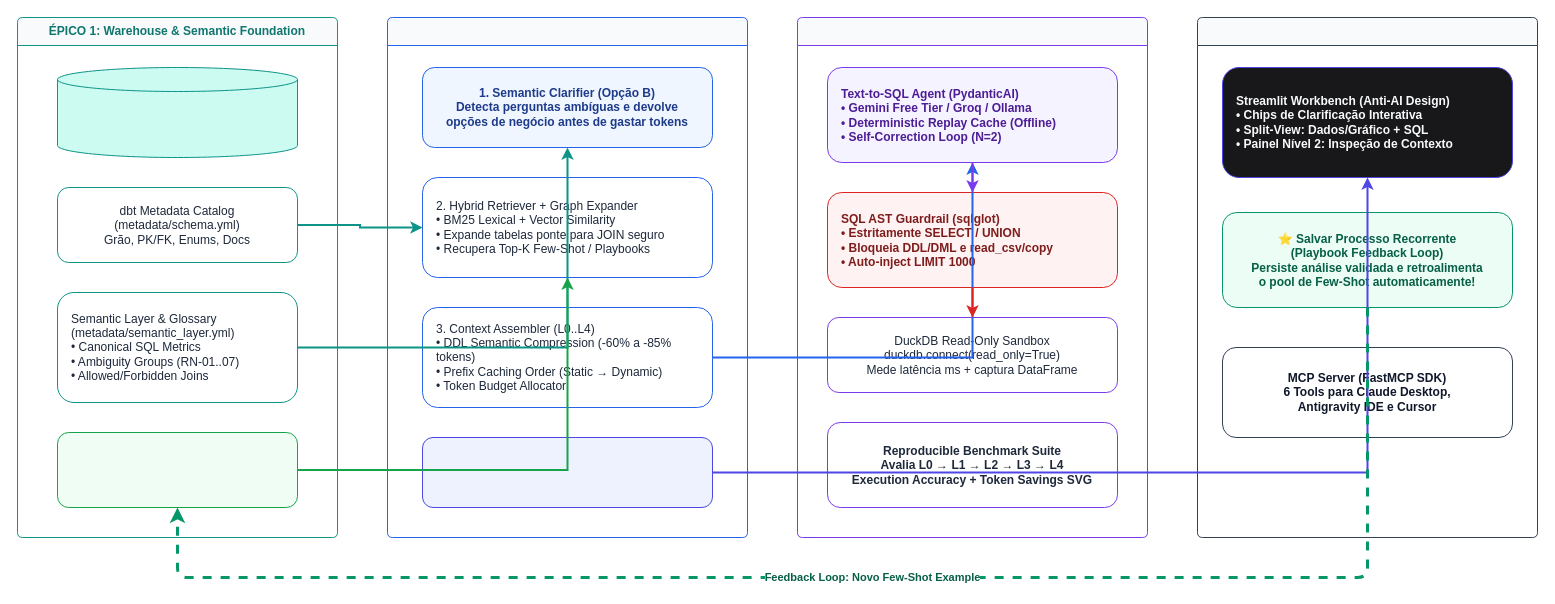
This 1555x604 diagram has some shape labels left out. The shapes that lost their labels are listed below. From the top down, each one's box as (x1, y1, x2, y2) in pixels, then its label:
(56, 66, 298, 158): DuckDB Local Warehouse (raw → staging → marts) Olist Dataset (Sample / Full)
(386, 16, 748, 538): ÉPICO 2: Context Assembler, Hybrid Retriever & Clarifier
(796, 16, 1148, 538): ÉPICO 3: Execution Guardrails, Agent & Benchmark
(1196, 16, 1538, 538): ÉPICO 4: Observability UI (Anti-AI Design), Playbooks & MCP
(56, 432, 298, 508): Few-Shot & Playbooks Pool (few_shot_examples.yml + saved_playbooks.json)
(422, 436, 712, 508): ContextInspectionReport (Nível 2) Tabelas + Razão, Métrica, Economia de Tokens
